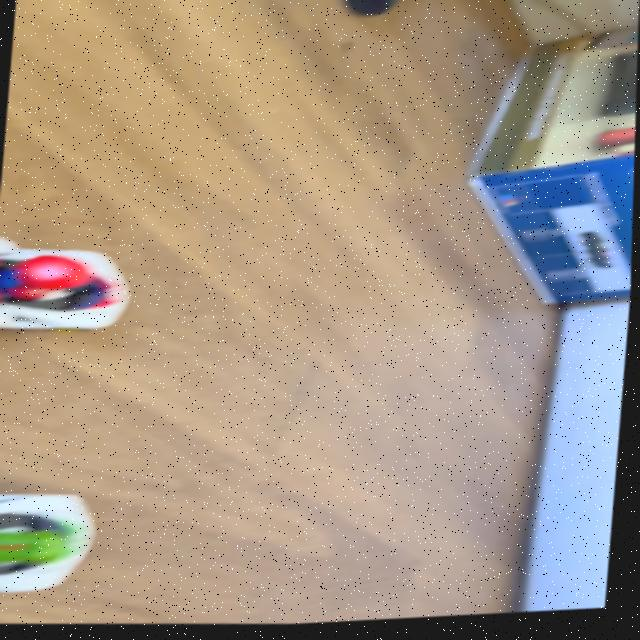mario: (0, 228, 156, 347)
yoshi: (0, 476, 132, 627)
